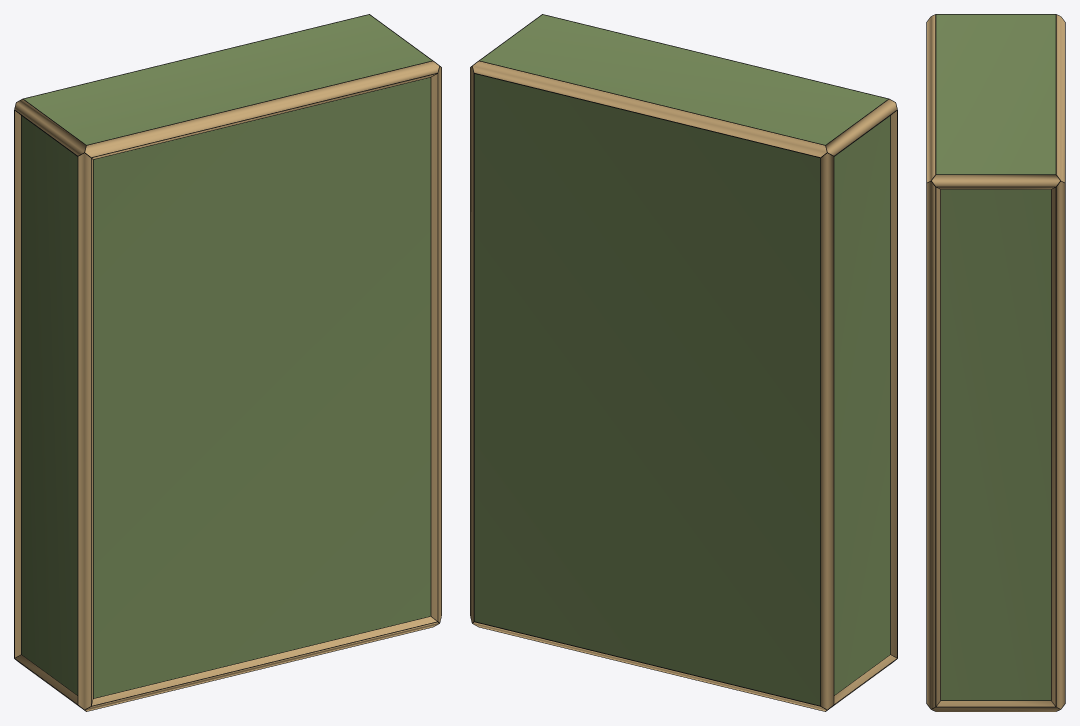
Rendered from dressing-1200.glb.
The picture shows the model from 3 angles, left to right: view 1: azimuth 30°, elevation 25°; view 2: azimuth 150°, elevation 25°; view 3: azimuth 270°, elevation 25°; orthographic projection. The views are drawn at different scales.
Parts seen in each view (by area): view 1: panneau-fond, panneau-joue1, panneau-dessus_exterieur, arete-Z0, arete-Z1, arete-X2, arete-X0, arete-Z2, panneau-wire-fond, arete-wire-Z0, arete-wire-Z1, arete-Y2 (+3 smaller); view 2: panneau-porte, panneau-joue1, panneau-dessus_exterieur, arete-Z2, arete-X3, arete-Z0, arete-Z3, arete-wire-Z2, arete-wire-Z3, arete-X1, panneau-wire-porte, arete-Y2 (+3 smaller); view 3: panneau-joue2, panneau-dessus_exterieur, arete-Z1, arete-Z3, arete-Y3, arete-wire-Z1, arete-wire-Z3, arete-X2, arete-X3, arete-Y1, panneau-wire-joue2, panneau-wire-dessus_exterieur (+4 smaller).
Boxes of the visible parts, left/top/right/bottom form: panneau-fond: left=93, top=77, right=430, bottom=698; panneau-joue1: left=21, top=116, right=77, bottom=694; panneau-dessus_exterieur: left=24, top=15, right=431, bottom=144; arete-Z0: left=78, top=153, right=92, bottom=709; arete-Z1: left=431, top=67, right=441, bottom=622; arete-X2: left=85, top=61, right=439, bottom=159; arete-X0: left=85, top=616, right=438, bottom=711; arete-Z2: left=15, top=111, right=20, bottom=657; panneau-wire-fond: left=93, top=77, right=431, bottom=698; arete-wire-Z0: left=77, top=152, right=93, bottom=706; arete-wire-Z1: left=437, top=66, right=441, bottom=621; arete-Y2: left=15, top=99, right=85, bottom=155; panneau-porte: left=474, top=74, right=820, bottom=705; panneau-joue1: left=834, top=116, right=890, bottom=694; panneau-dessus_exterieur: left=480, top=15, right=887, bottom=144; arete-Z2: left=821, top=153, right=833, bottom=709; arete-X3: left=472, top=61, right=826, bottom=157; arete-Z0: left=891, top=111, right=896, bottom=657; arete-Z3: left=470, top=67, right=473, bottom=622; arete-wire-Z2: left=820, top=152, right=834, bottom=706; arete-wire-Z3: left=470, top=68, right=474, bottom=621; arete-X1: left=473, top=622, right=826, bottom=711; panneau-wire-porte: left=474, top=73, right=819, bottom=705; arete-Y2: left=826, top=99, right=896, bottom=155; panneau-joue2: left=941, top=189, right=1050, bottom=700; panneau-dessus_exterieur: left=936, top=14, right=1055, bottom=174; arete-Z1: left=927, top=181, right=940, bottom=708; arete-Z3: left=1051, top=181, right=1064, bottom=708; arete-Y3: left=932, top=175, right=1059, bottom=189; arete-wire-Z1: left=926, top=180, right=940, bottom=707; arete-wire-Z3: left=1055, top=183, right=1065, bottom=707; arete-X2: left=927, top=15, right=935, bottom=182; arete-X3: left=1056, top=15, right=1064, bottom=182; arete-Y1: left=932, top=701, right=1059, bottom=711; panneau-wire-joue2: left=940, top=189, right=1051, bottom=700; panneau-wire-dessus_exterieur: left=936, top=14, right=1055, bottom=173.
Bounding box in the file's own units: 1.23 × 1.83 × 0.4309.
